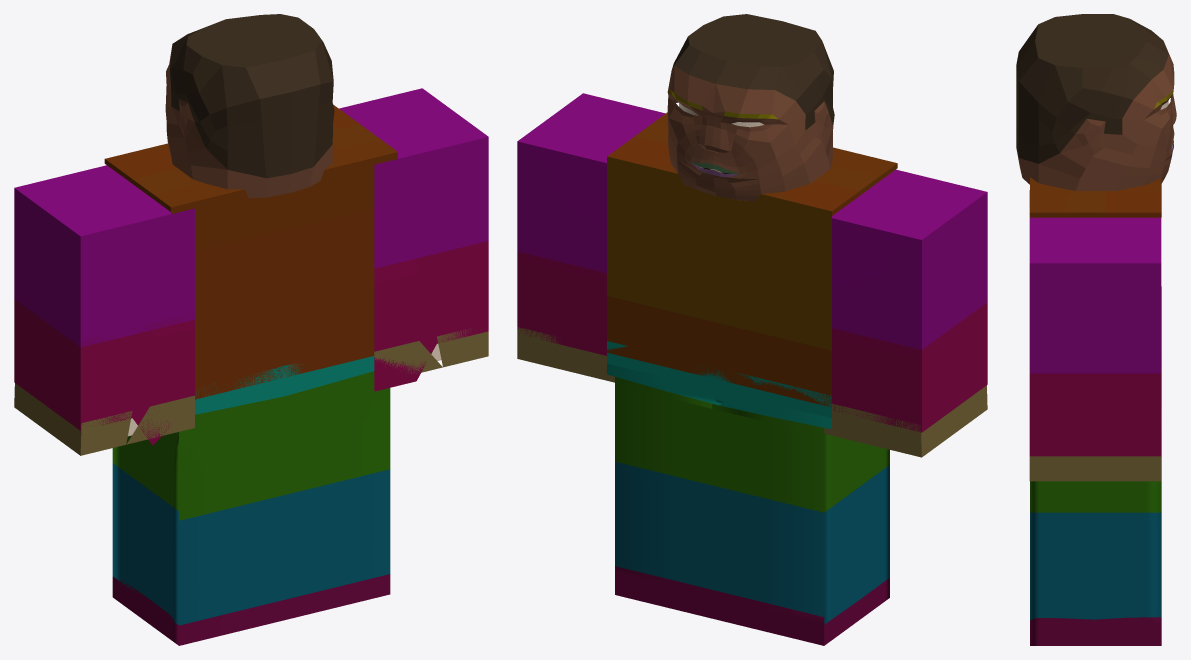
The picture shows the model from 3 angles, left to right: view 1: azimuth 30°, elevation 25°; view 2: azimuth 150°, elevation 25°; view 3: azimuth 270°, elevation 25°; orthographic projection.
Visible parts, largest first — view 1: UpperTorso_OuterCage, Head_OuterCage, LeftUpperArm_OuterCage, LeftLowerLeg_OuterCage, RightUpperArm_OuterCage, LeftLowerArm_OuterCage, LeftUpperLeg_OuterCage, RightLowerLeg_OuterCage, RightLowerArm_OuterCage, RightUpperLeg_OuterCage, LeftHand_OuterCage, LowerTorso_OuterCage (+3 smaller); view 2: UpperTorso_OuterCage, Head_OuterCage, LeftUpperArm_OuterCage, LeftLowerLeg_OuterCage, RightUpperArm_OuterCage, LeftLowerArm_OuterCage, LeftUpperLeg_OuterCage, RightLowerLeg_OuterCage, RightUpperLeg_OuterCage, RightLowerArm_OuterCage, LowerTorso_OuterCage, LeftFoot_OuterCage (+3 smaller); view 3: Head_OuterCage, RightUpperArm_OuterCage, RightLowerLeg_OuterCage, RightLowerArm_OuterCage, RightUpperLeg_OuterCage, UpperTorso_OuterCage, RightFoot_OuterCage, RightHand_OuterCage.
Part boxes in pixels (x1,y1,x2,y2): UpperTorso_OuterCage: (104, 104, 397, 399); Head_OuterCage: (165, 14, 334, 198); LeftUpperArm_OuterCage: (14, 165, 194, 347); LeftLowerLeg_OuterCage: (112, 463, 282, 625); RightUpperArm_OuterCage: (339, 88, 488, 268); LeftLowerArm_OuterCage: (14, 299, 194, 445); LeftUpperLeg_OuterCage: (112, 396, 282, 520); RightLowerLeg_OuterCage: (277, 469, 390, 601); RightLowerArm_OuterCage: (374, 241, 488, 391); RightUpperLeg_OuterCage: (277, 371, 390, 496); LeftHand_OuterCage: (14, 383, 194, 455); LowerTorso_OuterCage: (195, 356, 374, 414); UpperTorso_OuterCage: (607, 113, 897, 406); Head_OuterCage: (667, 14, 834, 201); LeftUpperArm_OuterCage: (832, 169, 987, 349); LeftLowerLeg_OuterCage: (712, 465, 889, 624); RightUpperArm_OuterCage: (517, 93, 665, 273); LeftLowerArm_OuterCage: (832, 302, 987, 432); LeftUpperLeg_OuterCage: (712, 403, 889, 512); RightLowerLeg_OuterCage: (615, 461, 719, 589); RightUpperLeg_OuterCage: (615, 377, 711, 485); RightLowerArm_OuterCage: (517, 251, 606, 355); LowerTorso_OuterCage: (607, 341, 831, 429); LeftFoot_OuterCage: (712, 578, 889, 645); Head_OuterCage: (1016, 14, 1176, 190); RightUpperArm_OuterCage: (1029, 208, 1161, 373); RightLowerLeg_OuterCage: (1030, 512, 1161, 620); RightLowerArm_OuterCage: (1029, 373, 1161, 456); RightUpperLeg_OuterCage: (1030, 431, 1161, 512); UpperTorso_OuterCage: (1030, 177, 1161, 408); RightFoot_OuterCage: (1030, 617, 1161, 645); RightHand_OuterCage: (1029, 456, 1161, 481).
Bounding box in the file's own units: 3.6 × 4.7 × 1.24.
2 materials, 1 textured.
